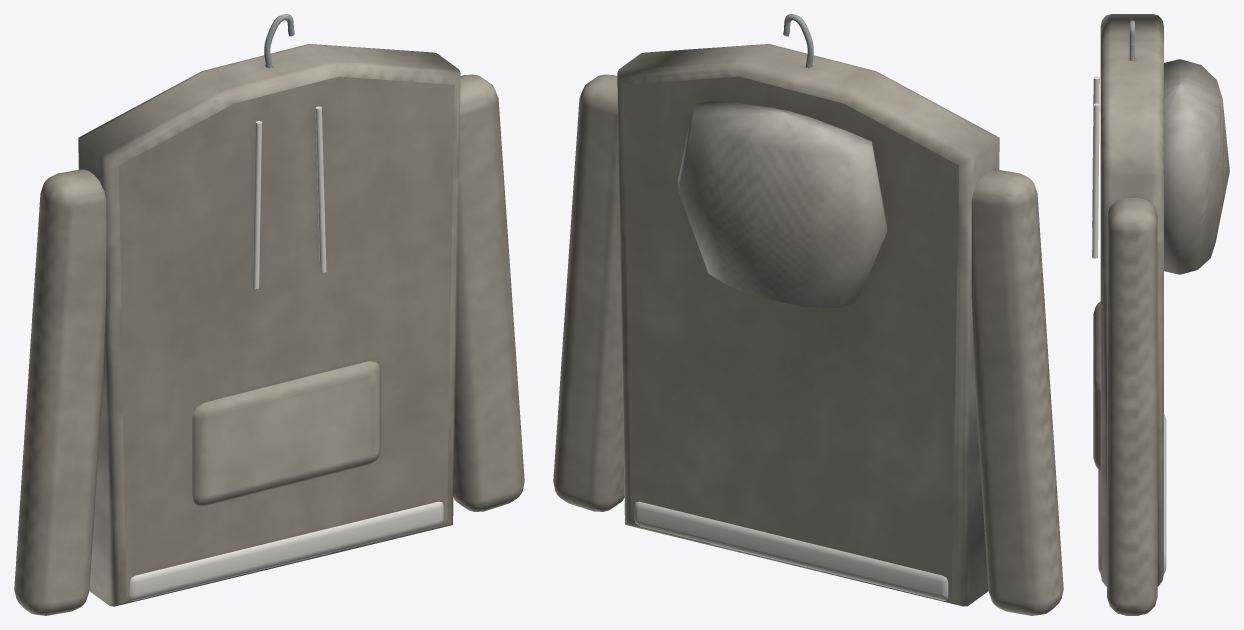
File: ciuch_bluza.glb
The picture shows the model from 3 angles, left to right: view 1: azimuth 30°, elevation 25°; view 2: azimuth 150°, elevation 25°; view 3: azimuth 270°, elevation 25°; orthographic projection. The views are drawn at different scales.
Parts seen in each view (by area): view 1: TintTkanina, Wieszak; view 2: TintTkanina, Wieszak; view 3: TintTkanina, Wieszak.
Boxes of the visible parts, bbox=[...] form: TintTkanina: bbox=[14, 44, 524, 615]; Wieszak: bbox=[129, 14, 443, 600]; TintTkanina: bbox=[553, 44, 1063, 615]; Wieszak: bbox=[634, 14, 948, 600]; TintTkanina: bbox=[1093, 14, 1229, 615]; Wieszak: bbox=[1092, 20, 1166, 573].
Bounding box in the file's own units: 0.6682 × 0.6921 × 0.1737.
Materials: 5 (1 with a texture image).
